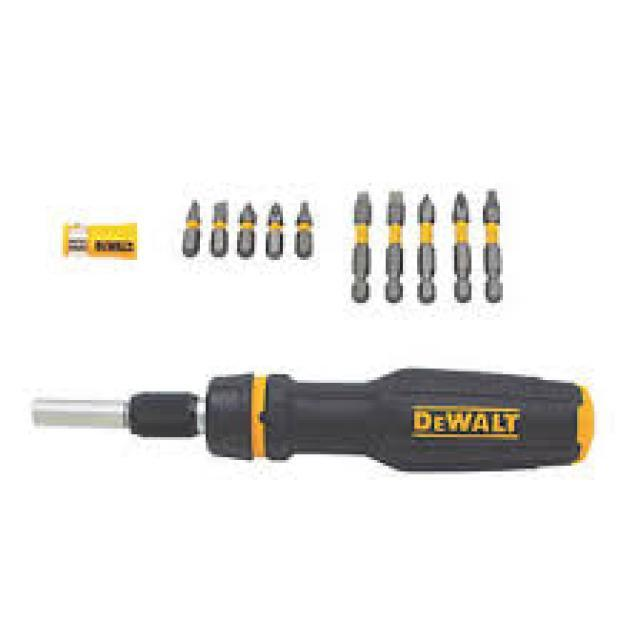screwdriver: (21, 365, 596, 481)
